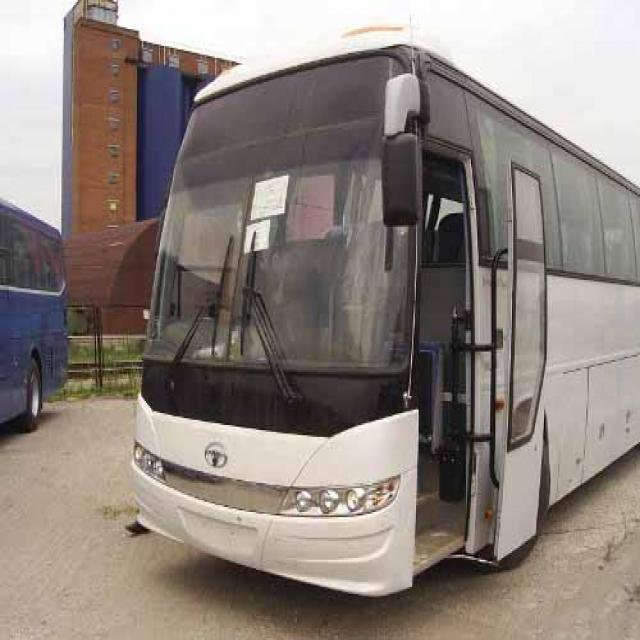bus: (121, 20, 640, 607)
